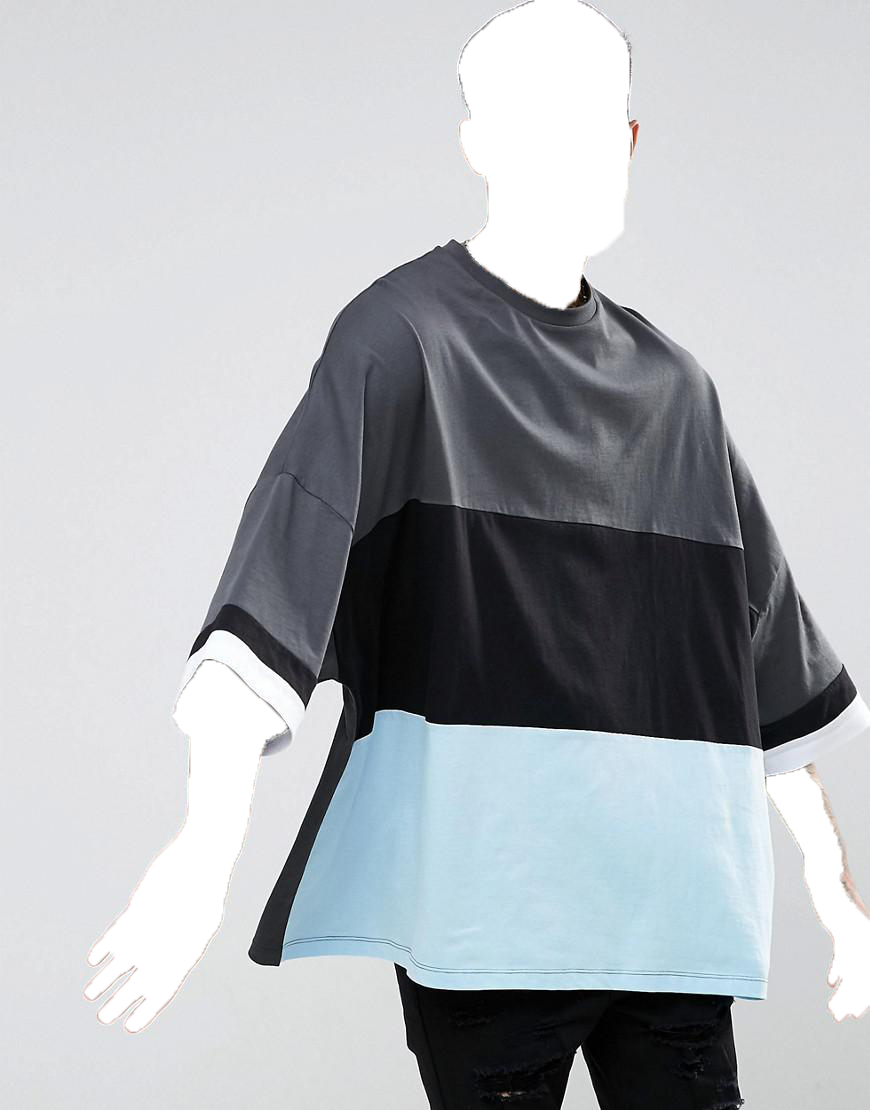teeshirt: (164, 237, 870, 1006)
